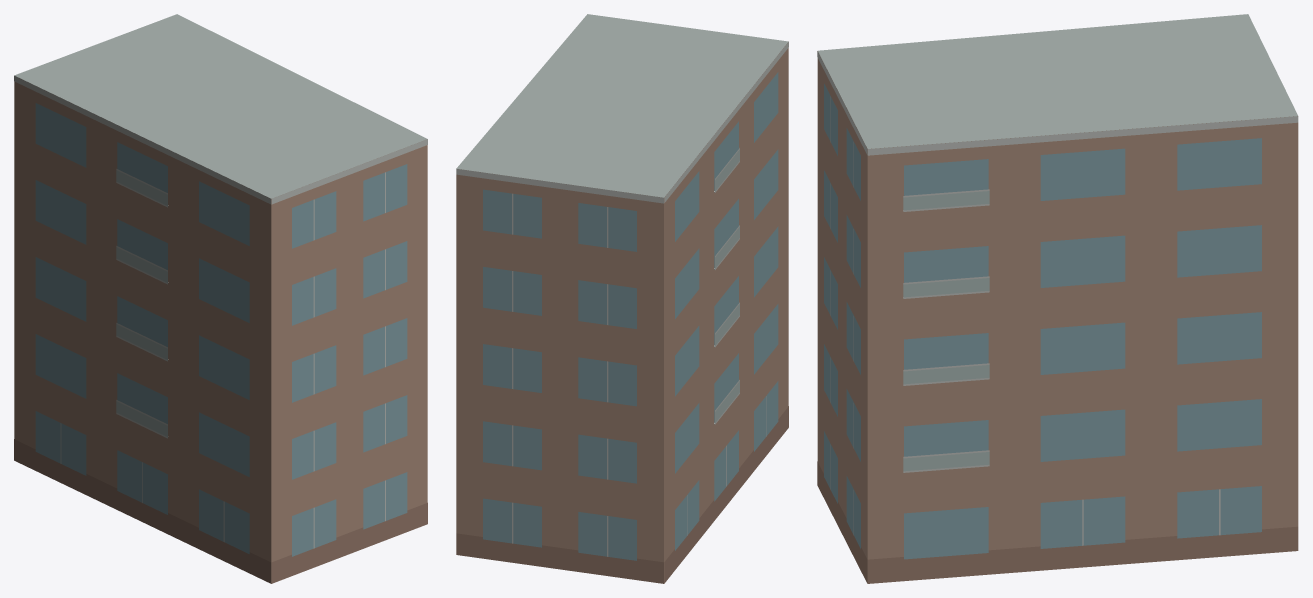
Rendered from survey-upis-32761648.glb.
3 views of the same model, side by side, from view 1: azimuth 30°, elevation 25°; view 2: azimuth 150°, elevation 25°; view 3: azimuth 270°, elevation 25° (orthographic). The views are drawn at different scales.
Parts seen in each view (by area): view 1: survey-upis-32761648.tmp; view 2: survey-upis-32761648.tmp; view 3: survey-upis-32761648.tmp.
Boxes of the visible parts, bbox=[...] form: survey-upis-32761648.tmp: bbox=[14, 14, 427, 583]; survey-upis-32761648.tmp: bbox=[456, 14, 788, 583]; survey-upis-32761648.tmp: bbox=[817, 14, 1298, 583].
Bounding box in the file's own units: 10.66 × 16 × 16.04.
